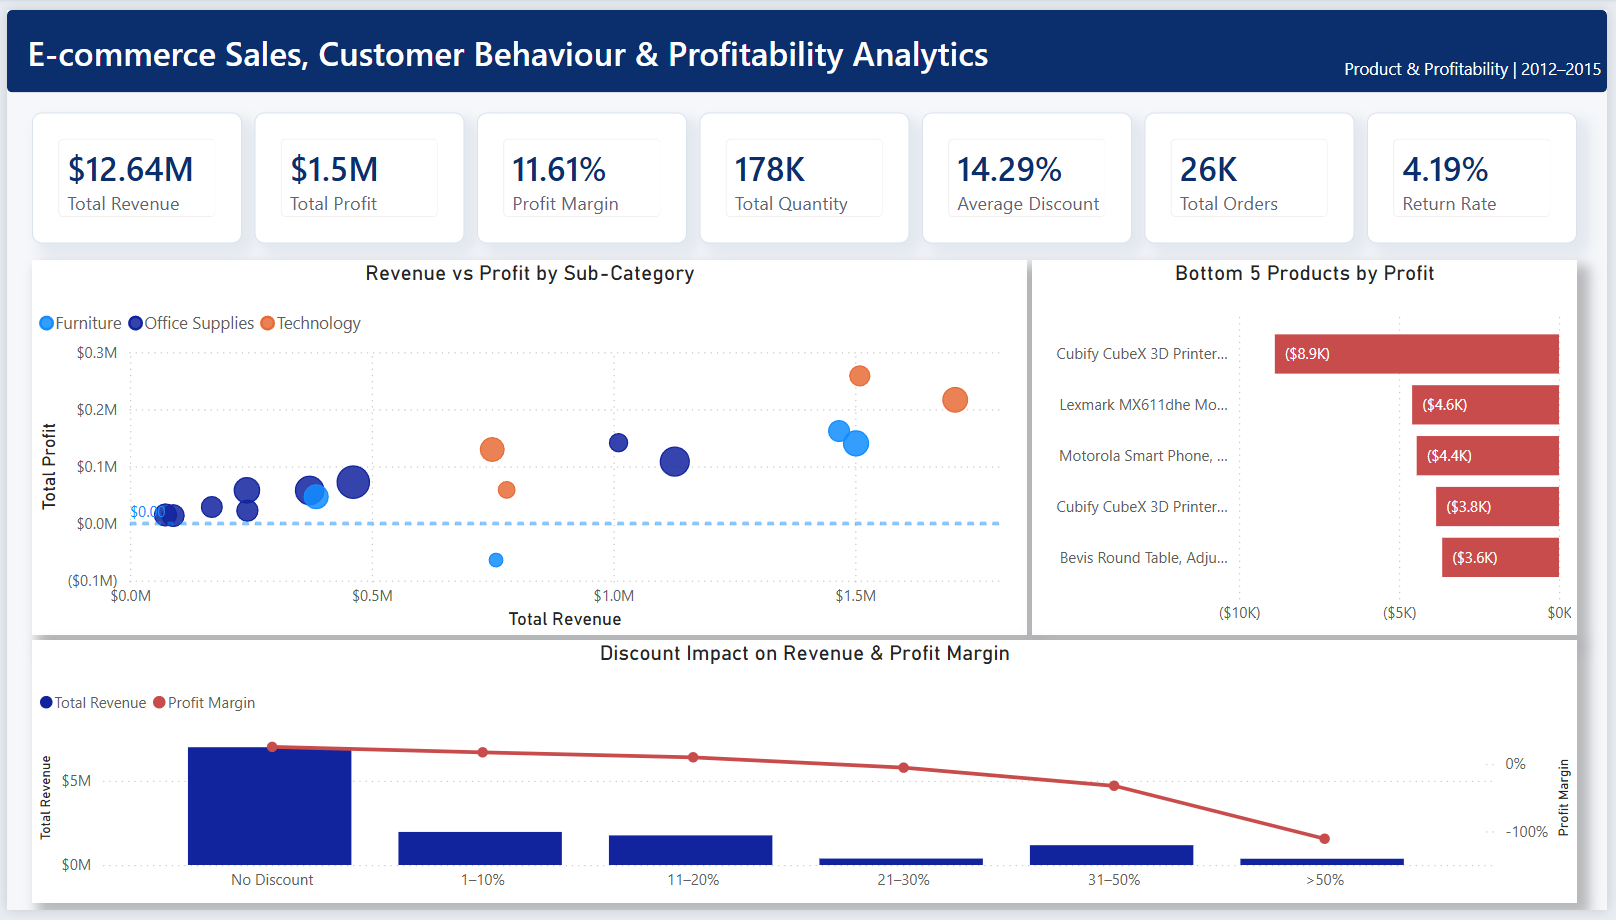

Layout of this report page (visuals, bound fields, positions):
{"tool":"powerbi","page":{"name":"02 Product & Profitability","canvas":[1280,720],"ordinal":2},"visuals":[{"type":"shape","box":[0,0,1279.7,65.6],"z":0},{"type":"textbox","box":[10.9,10.9,876.6,45.3],"z":1000},{"type":"textbox","box":[0,32.8,1280,150],"z":2000},{"type":"cardVisual","fields":{"Data":["_Measures.Total Revenue"]},"box":[19.8,82.1,168,105],"z":3000},{"type":"cardVisual","fields":{"Data":["_Measures.Total Profit"]},"box":[197.8,82.1,168,105],"z":4000},{"type":"cardVisual","fields":{"Data":["_Measures.Profit Margin"]},"box":[375.8,82.1,168,105],"z":5000},{"type":"cardVisual","fields":{"Data":["_Measures.Total Quantity"]},"box":[553.8,82.1,168,105],"z":6000},{"type":"cardVisual","fields":{"Data":["_Measures.Average Discount"]},"box":[731.8,82.1,168,105],"z":7000},{"type":"cardVisual","fields":{"Data":["_Measures.Total Orders"]},"box":[909.8,82.1,168,105],"z":8000},{"type":"cardVisual","fields":{"Data":["_Measures.Return Rate"]},"box":[1087.8,82.1,168,105],"z":9000},{"type":"scatterChart","title":"Revenue vs Profit by Sub-Category","fields":{"X":["_Measures.Total Revenue"],"Y":["_Measures.Total Profit"],"Size":["_Measures.Total Quantity"],"Series":["DimProduct.category"],"Category":["DimProduct.sub_category"]},"box":[20,200,795.6,300],"z":10000},{"type":"clusteredBarChart","title":"Bottom 5 Products by Profit","fields":{"Category":["DimProduct.product_name"],"Y":["_Measures.Total Profit"]},"box":[820,200,435.6,300],"z":11000},{"type":"lineClusteredColumnComboChart","title":"Discount Impact on Revenue & Profit Margin","fields":{"Y":["_Measures.Total Revenue"],"Y2":["_Measures.Profit Margin"],"Category":["FactSales.discount_band"]},"box":[20,504.4,1235.6,210],"z":12000}]}

Visuals, with their boxes in screenshot pixels (x1, y1, x2, y2), scaled from the page's 1280x720 canvas onto the 1616x920 screenshot:
shape: 0/0/1615/84
textbox: 14/14/1120/72
textbox: 0/42/1615/234
cardVisual - _Measures.Total Revenue: 25/105/237/239
cardVisual - _Measures.Total Profit: 250/105/462/239
cardVisual - _Measures.Profit Margin: 474/105/687/239
cardVisual - _Measures.Total Quantity: 699/105/911/239
cardVisual - _Measures.Average Discount: 924/105/1136/239
cardVisual - _Measures.Total Orders: 1149/105/1361/239
cardVisual - _Measures.Return Rate: 1373/105/1585/239
"Revenue vs Profit by Sub-Category" scatterChart: 25/256/1030/639
"Bottom 5 Products by Profit" clusteredBarChart: 1035/256/1585/639
"Discount Impact on Revenue & Profit Margin" lineClusteredColumnComboChart: 25/645/1585/913
